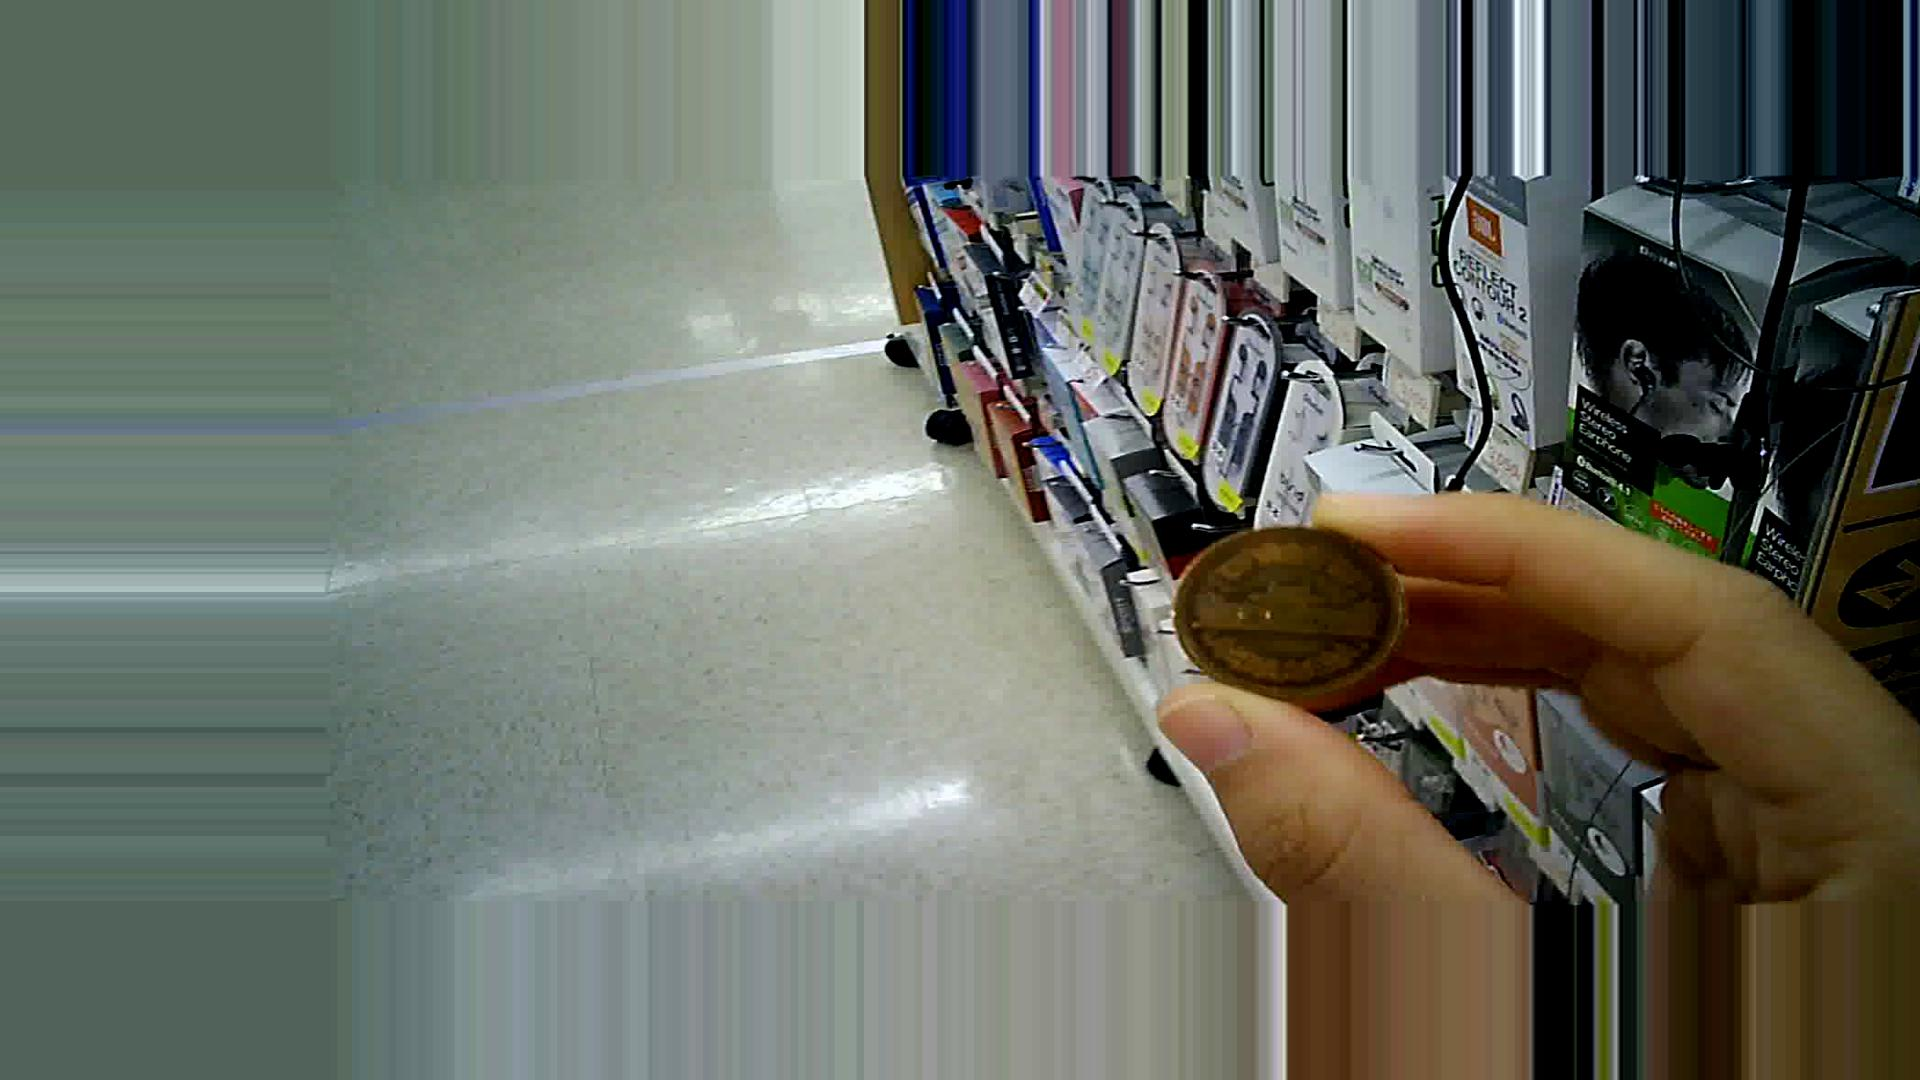10 Yen: (1164, 513, 1429, 707)
